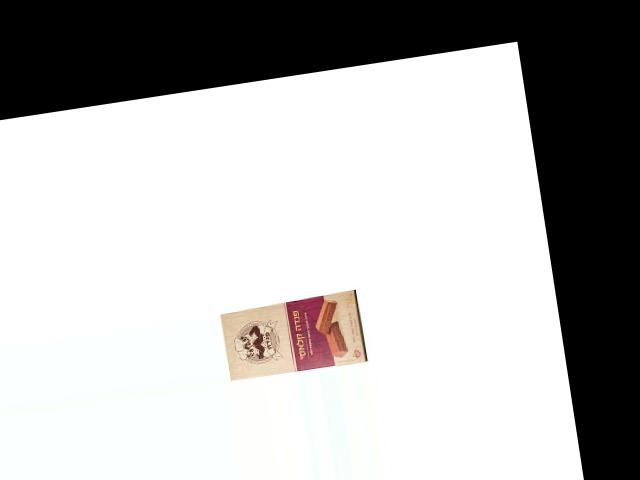chocolate: (218, 287, 367, 380)
